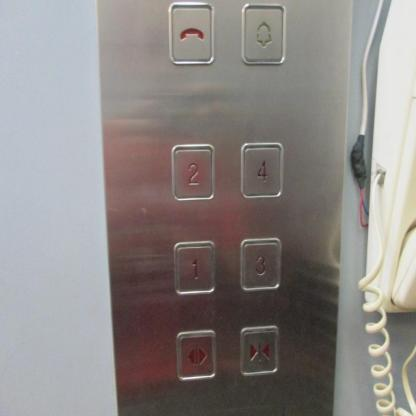1: (171, 238, 219, 299)
2: (170, 141, 216, 205)
3: (238, 235, 282, 295)
4: (240, 140, 284, 198)
alarm: (238, 0, 288, 67)
call: (166, 0, 215, 66)
close: (238, 321, 280, 378)
open: (174, 328, 220, 382)
